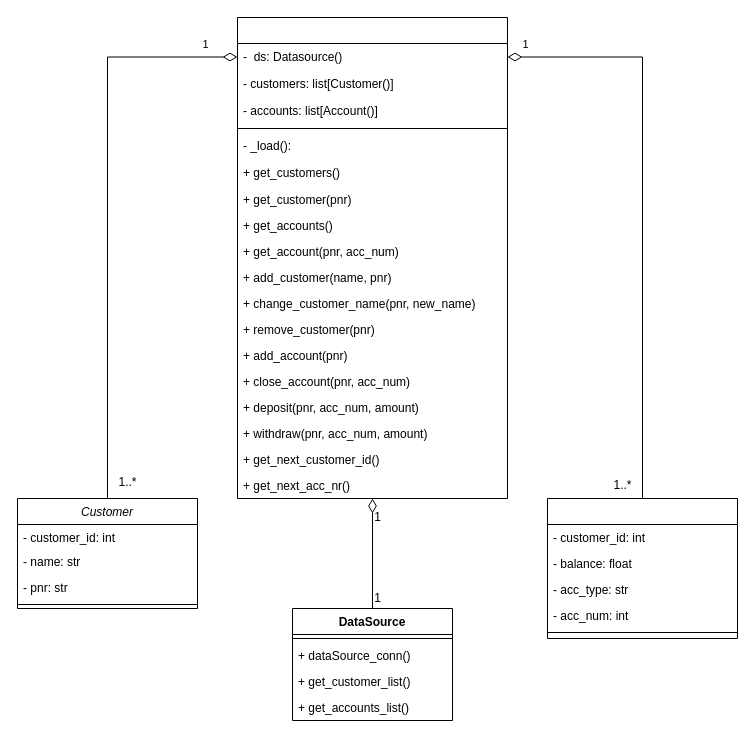
This 755x741 diagram has some shape labels left out. The box of each missing label's shape, as (x1, y1, x2, y2) in pixels:
Account: (546, 498, 738, 638)
Bank: (236, 16, 508, 498)
